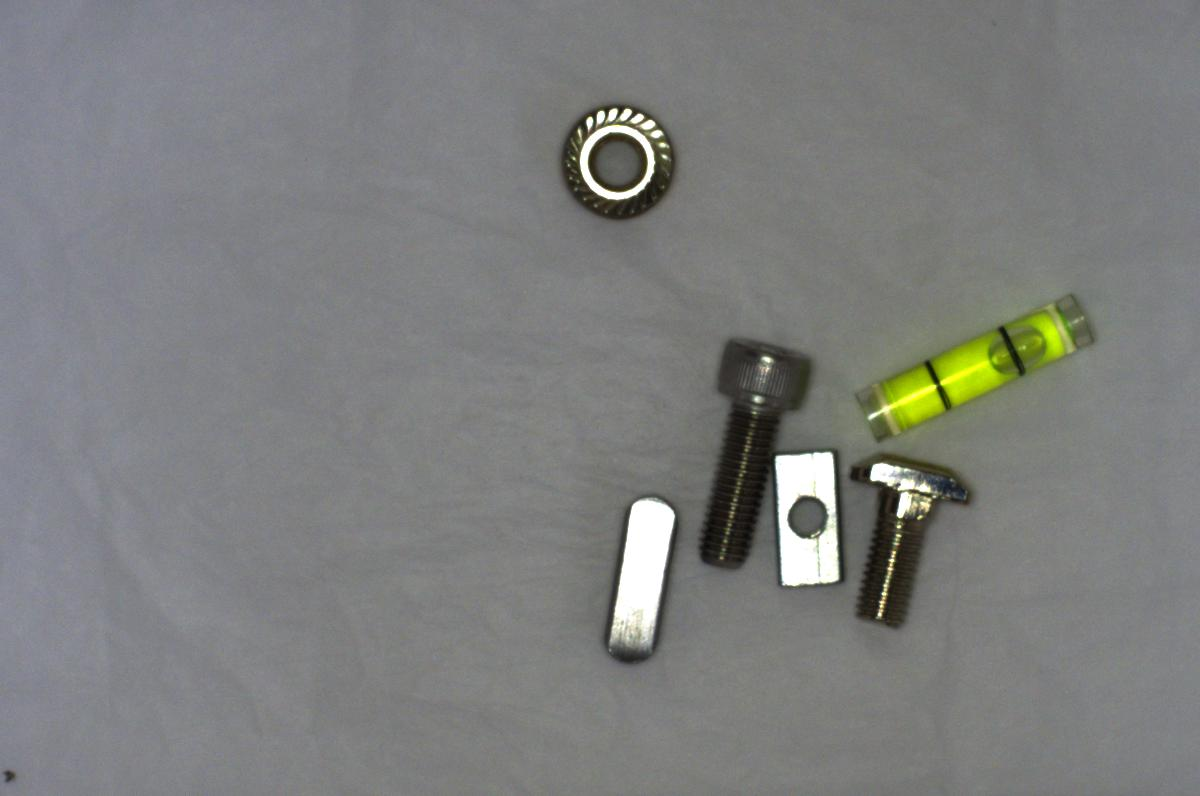Flange nut: (542, 99, 685, 226)
Hexagon screw: (687, 330, 816, 565)
Horizontal bubble: (852, 269, 1097, 448)
Keybar: (592, 483, 687, 664)
Rectangular nut: (766, 441, 852, 596)
T-shaped screw: (838, 449, 974, 630)
